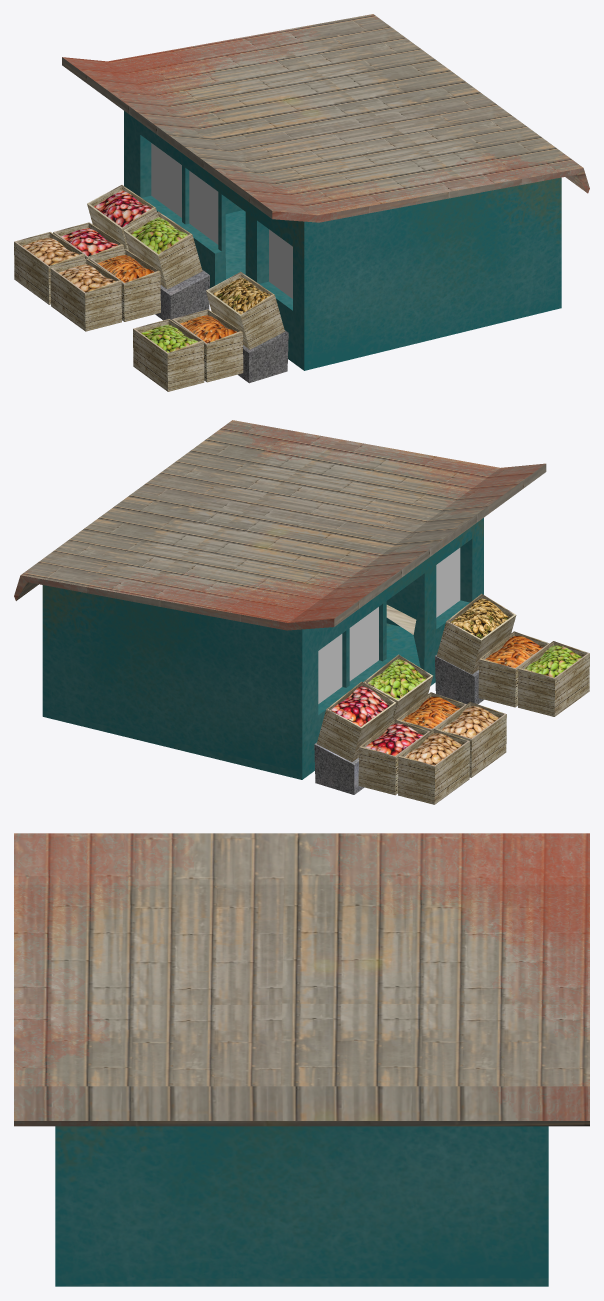
The model's file is prop_warzywniak.fbx.
3 renders of one model, top to bottom at view 1: azimuth 30°, elevation 25°; view 2: azimuth 150°, elevation 25°; view 3: azimuth 270°, elevation 25°, orthographic. The views are drawn at different scales.
Visible parts, largest first — view 1: sklepik_warzywnik; view 2: sklepik_warzywnik; view 3: sklepik_warzywnik.
Part boxes in pixels (left/top/right/bottom): sklepik_warzywnik: left=14, top=14, right=589, bottom=391; sklepik_warzywnik: left=14, top=420, right=589, bottom=804; sklepik_warzywnik: left=14, top=833, right=589, bottom=1286.
Size of the model in its own units: 690 by 352 by 742.
Materials: 2 (1 with a texture image).
